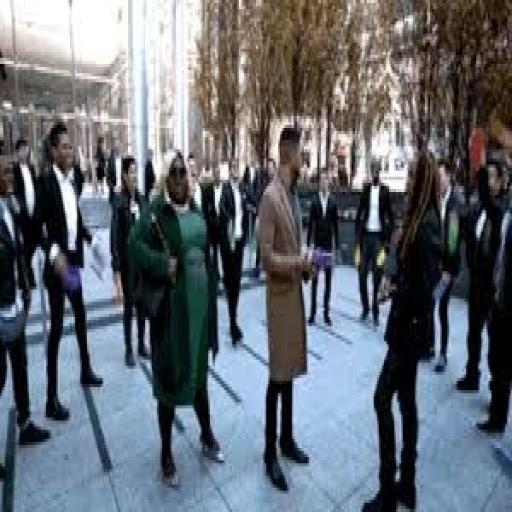running: (126, 143, 227, 491), (360, 143, 447, 509), (254, 122, 326, 497), (32, 116, 106, 426)
